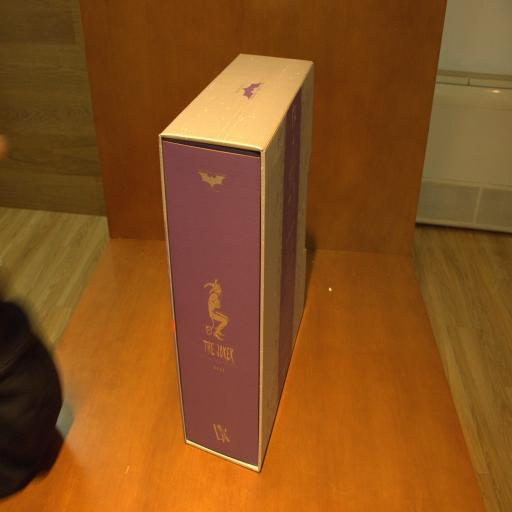Joker: (160, 52, 314, 473)
